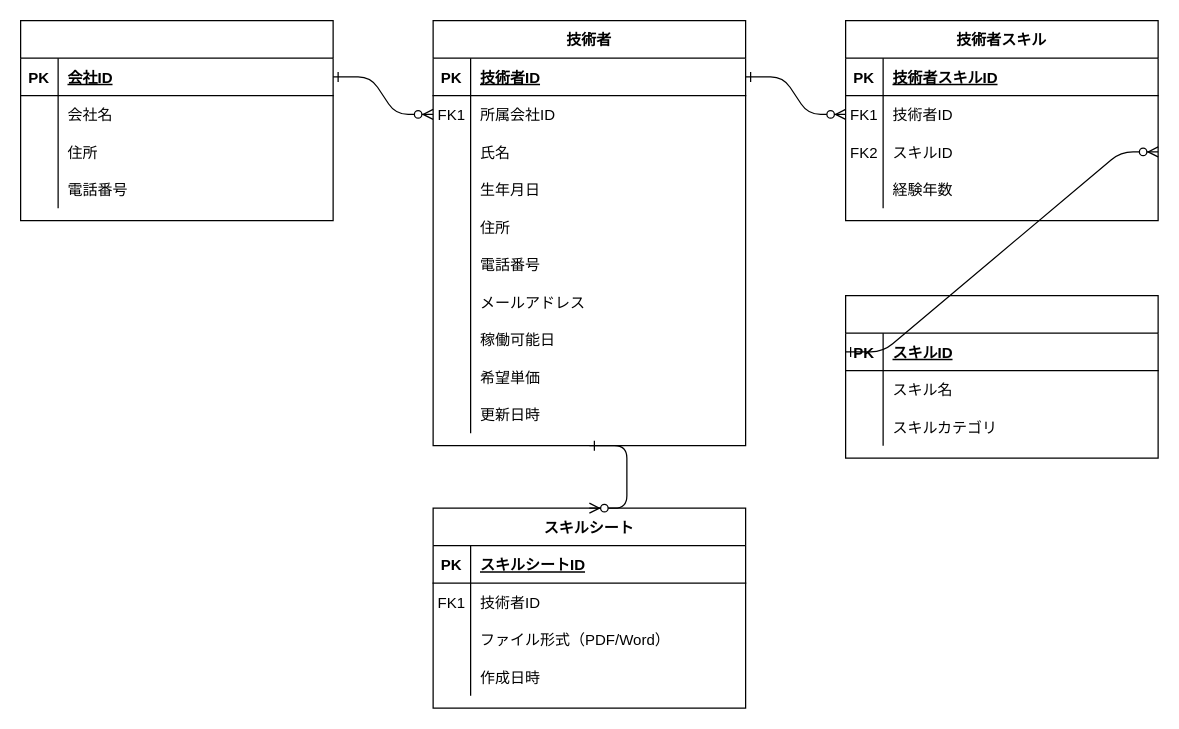
Image size: 1179x729. Some labels were removed from this diagram. Here are the shapes that lost their labels. From the top down, the box of each, then its label:
(19, 19, 333, 221): 所属会社
(844, 294, 1158, 458): スキルマスタ
